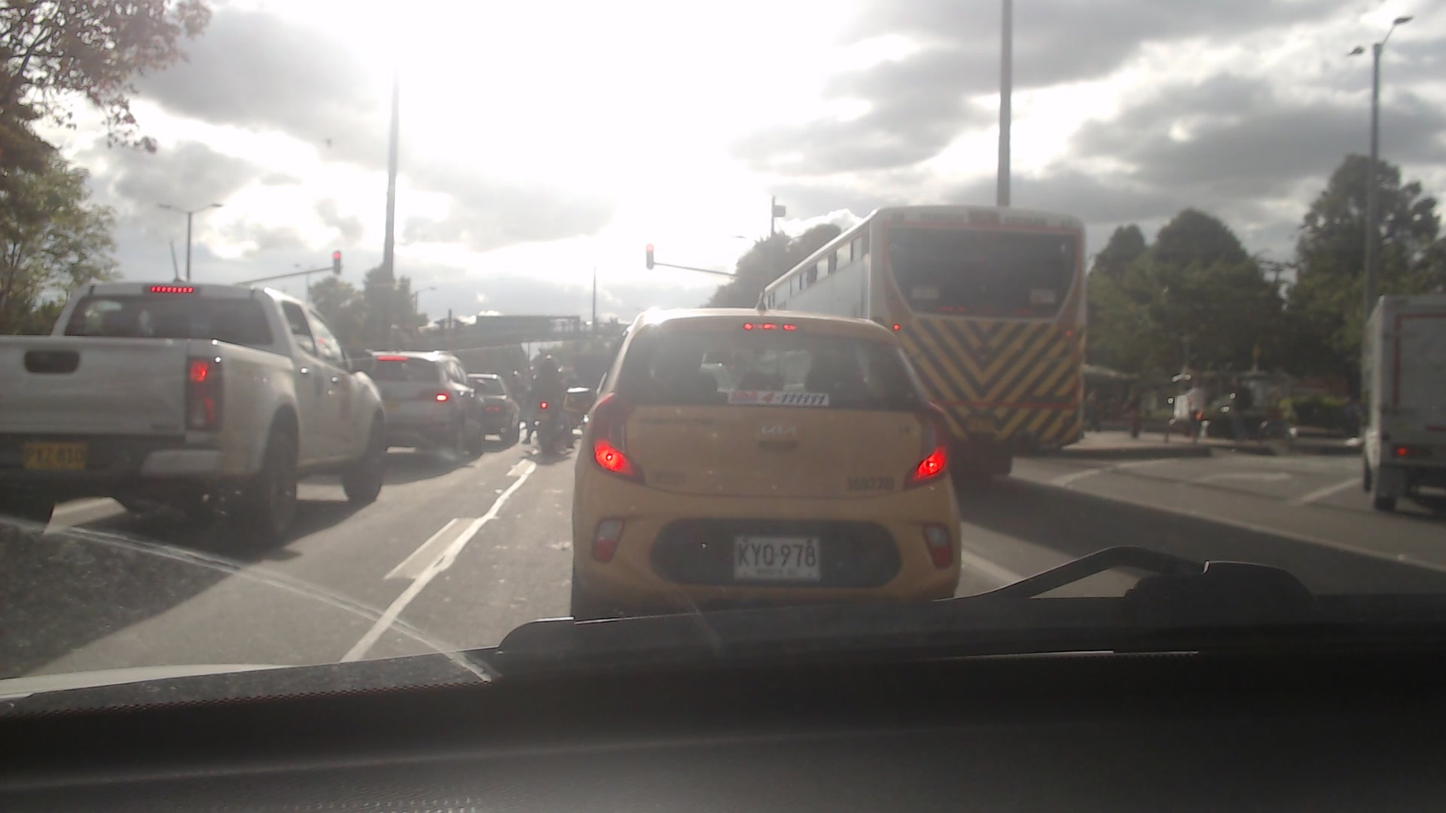bus: (742, 205, 1091, 472)
car: (570, 308, 967, 607), (6, 280, 392, 539), (353, 353, 494, 455)
motorcycle: (523, 387, 568, 455)
person: (523, 351, 568, 433)
